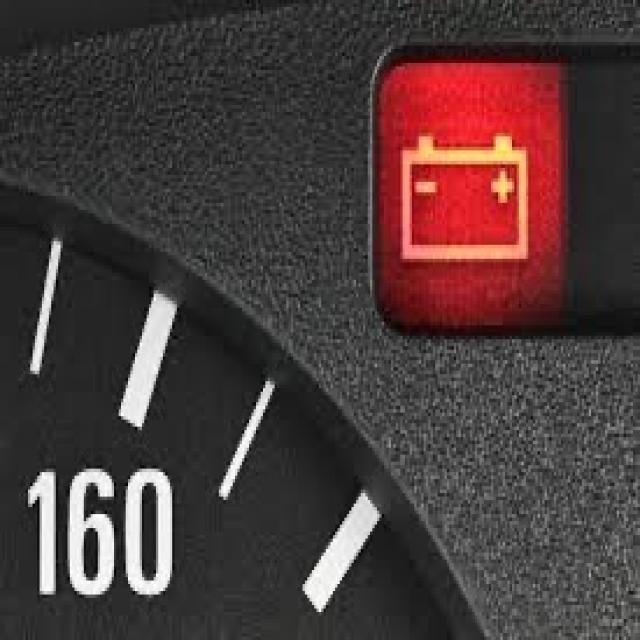kontrolka: (396, 116, 544, 275)
